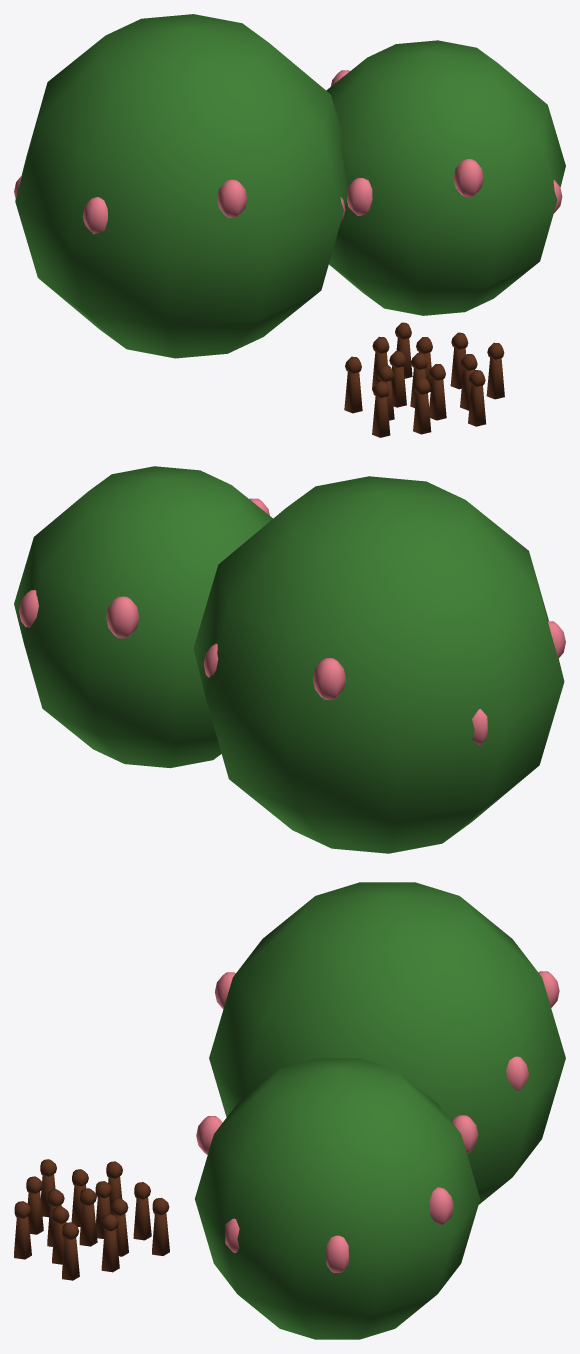
The model's file is resource_cloves.fbx.
3 views of the same model, one above another, from view 1: azimuth 30°, elevation 25°; view 2: azimuth 150°, elevation 25°; view 3: azimuth 270°, elevation 25° (orthographic). The views are drawn at different scales.
Visible parts, largest first — view 1: resource_cloves_clvl_00, resource_cloves_clove_02, resource_cloves_clvb_01; view 2: resource_cloves_clvl_00, resource_cloves_clvb_01; view 3: resource_cloves_clvl_00, resource_cloves_clove_02, resource_cloves_clvb_01.
Part boxes in pixels (x1,y1,x2,y2): resource_cloves_clvl_00: [15, 14, 565, 358]; resource_cloves_clove_02: [344, 322, 504, 437]; resource_cloves_clvb_01: [14, 70, 562, 233]; resource_cloves_clvl_00: [14, 466, 564, 853]; resource_cloves_clvb_01: [18, 498, 565, 745]; resource_cloves_clvl_00: [195, 882, 565, 1339]; resource_cloves_clove_02: [14, 1159, 169, 1280]; resource_cloves_clvb_01: [196, 971, 559, 1272].
Bounding box in the file's own units: 80.68 × 50 × 77.32.
